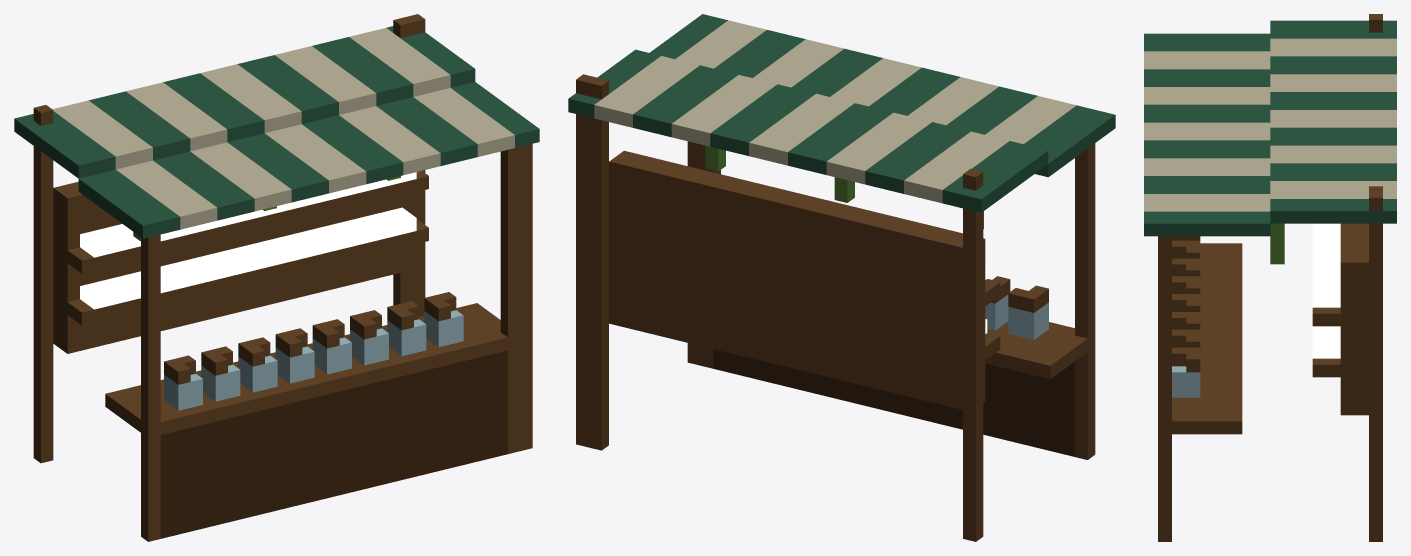
Rendered from stall_apothecary_lod1.glb.
3 renders of one model, left to right at view 1: azimuth 30°, elevation 25°; view 2: azimuth 150°, elevation 25°; view 3: azimuth 270°, elevation 25°, orthographic. The views are drawn at different scales.
Parts seen in each view (by area): view 1: stall_apothecary; view 2: stall_apothecary; view 3: stall_apothecary.
Part boxes in pixels (left/top/right/bottom): stall_apothecary: left=14, top=14, right=539, bottom=541; stall_apothecary: left=568, top=14, right=1115, bottom=541; stall_apothecary: left=1144, top=14, right=1396, bottom=541.
Size of the model in its own units: 3.2 by 2.7 by 1.8.
